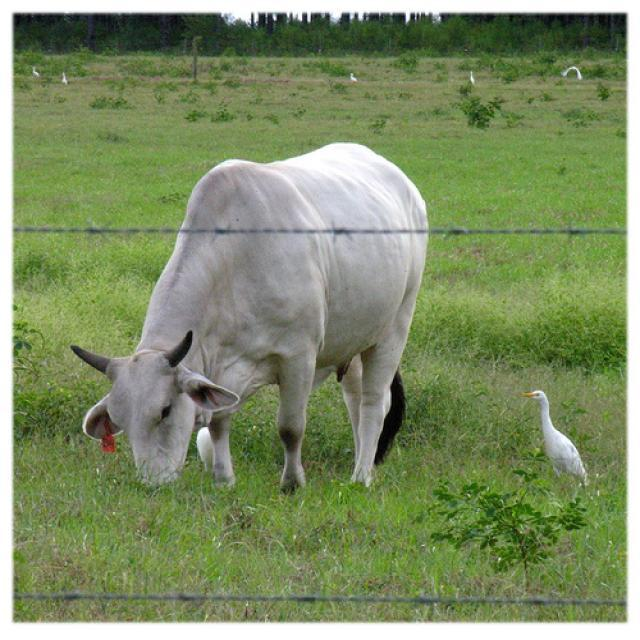cow: (66, 137, 427, 500)
